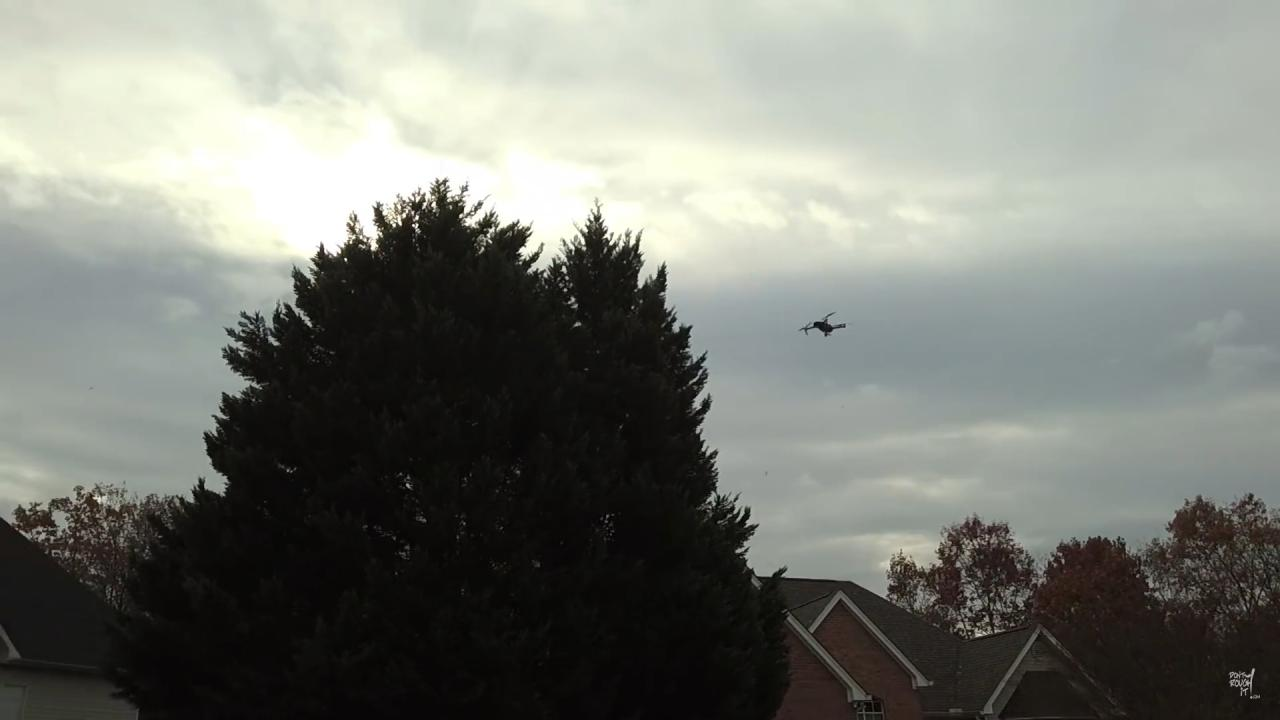Drone: (783, 299, 861, 353)
